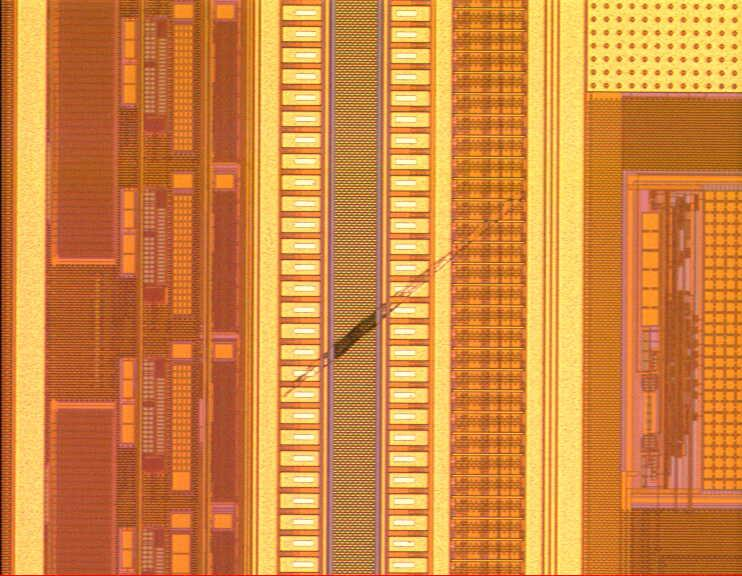SCRATCH: (272, 180, 541, 408)
